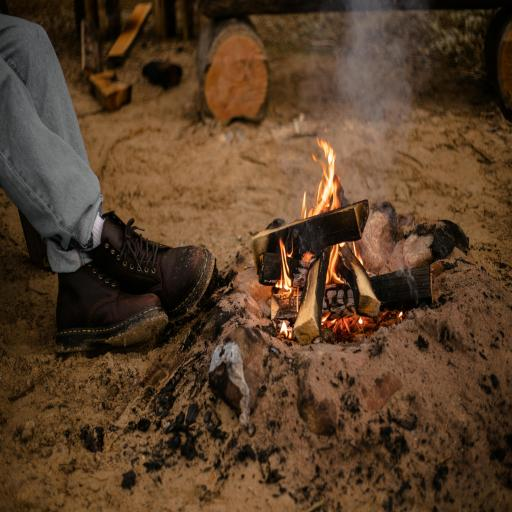campfire: (240, 117, 426, 356)
